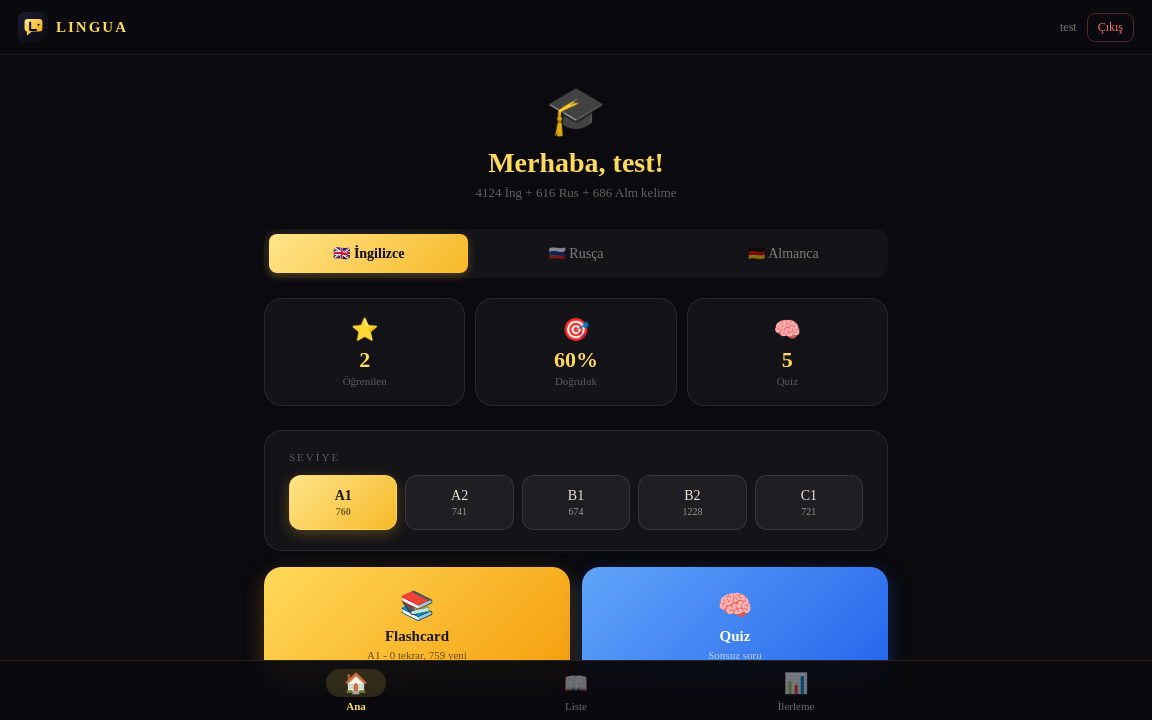
Test: Flashcard: kart çevrilip Öğrendim denince SRS kaydı sunucuya yazılır
Later steps or results of the test are not shown.
Click the button "📚 Flashcard A1 - 0 tekrar, 759 yeni".
click(417, 625)  # box [264,567,570,683]
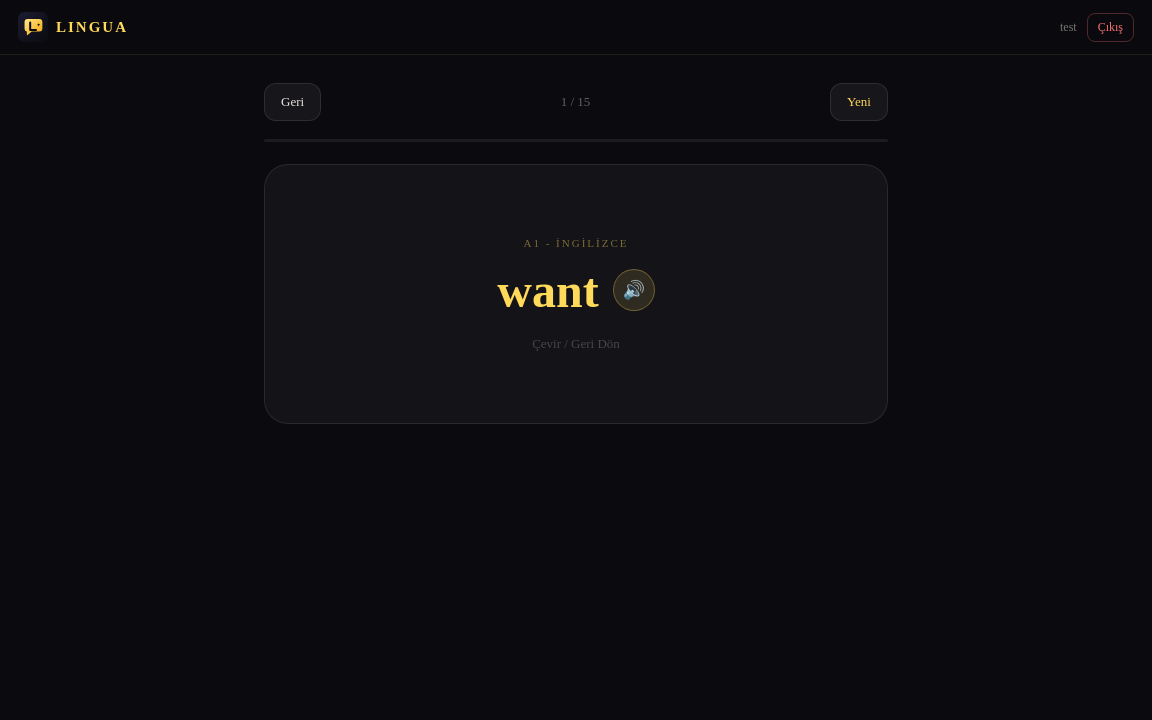
Check: the text "1 / 15" is shown, box [561,94,590,110]
Click the element showing "A1 - İngilizce want 🔊 Çevir / Geri Dön".
click(576, 294)  # box [264,164,888,424]
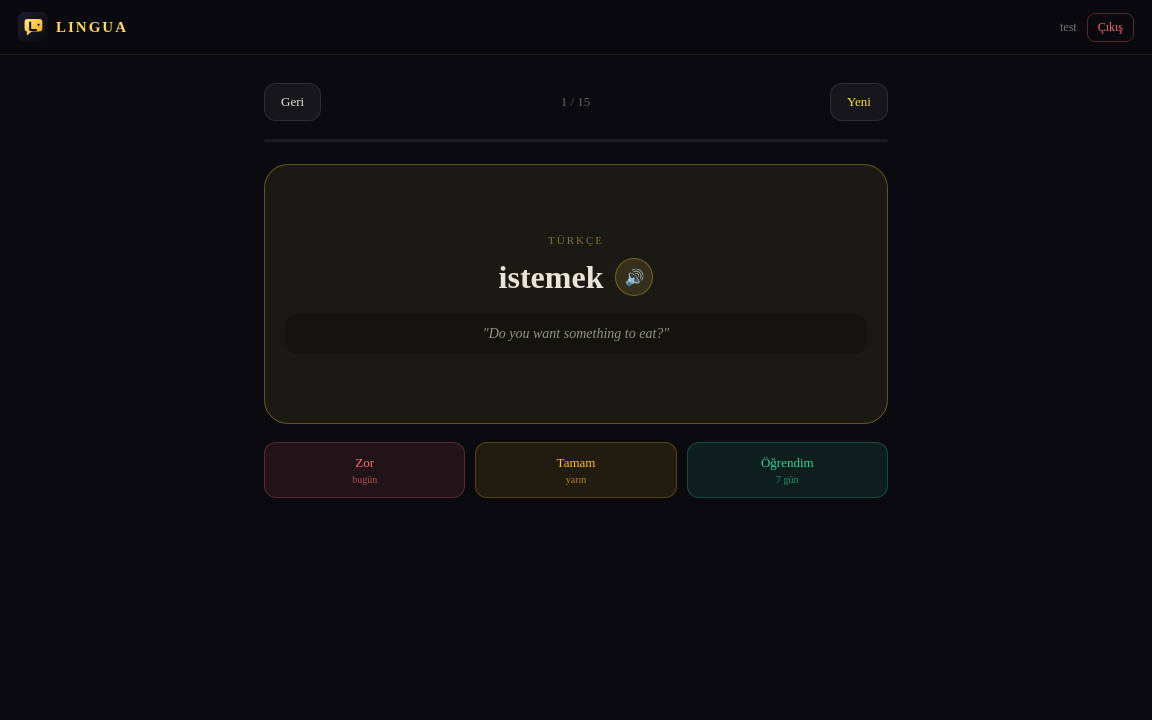
Check: the button "Öğrendim 7 gün" is shown, box [687,442,888,498]
